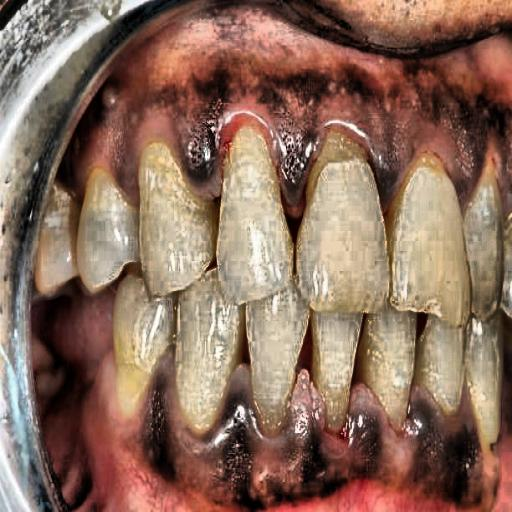Gingivitis: (106, 372, 492, 512), (98, 70, 453, 202)
